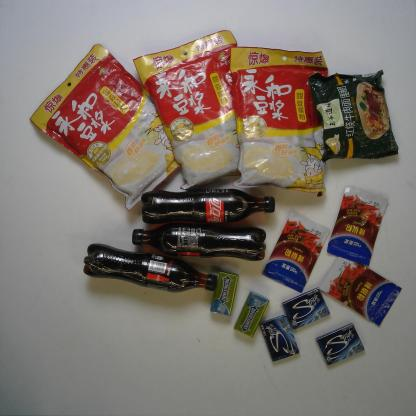Drink: (79, 240, 220, 295), (139, 184, 281, 226), (128, 224, 268, 265)
Gum: (313, 319, 368, 369), (280, 286, 333, 334), (256, 313, 303, 365), (231, 288, 275, 341), (208, 270, 239, 321)
Instant Drink: (28, 41, 174, 211), (130, 26, 242, 187), (225, 43, 333, 197)
Instant Noodles: (300, 66, 400, 166)
Seasoner: (314, 252, 404, 328), (260, 206, 332, 295), (324, 182, 393, 268)
